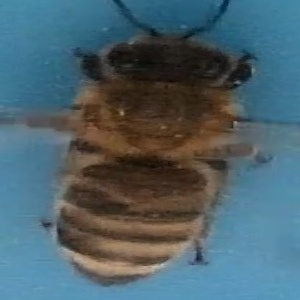bee: (32, 2, 285, 289)
